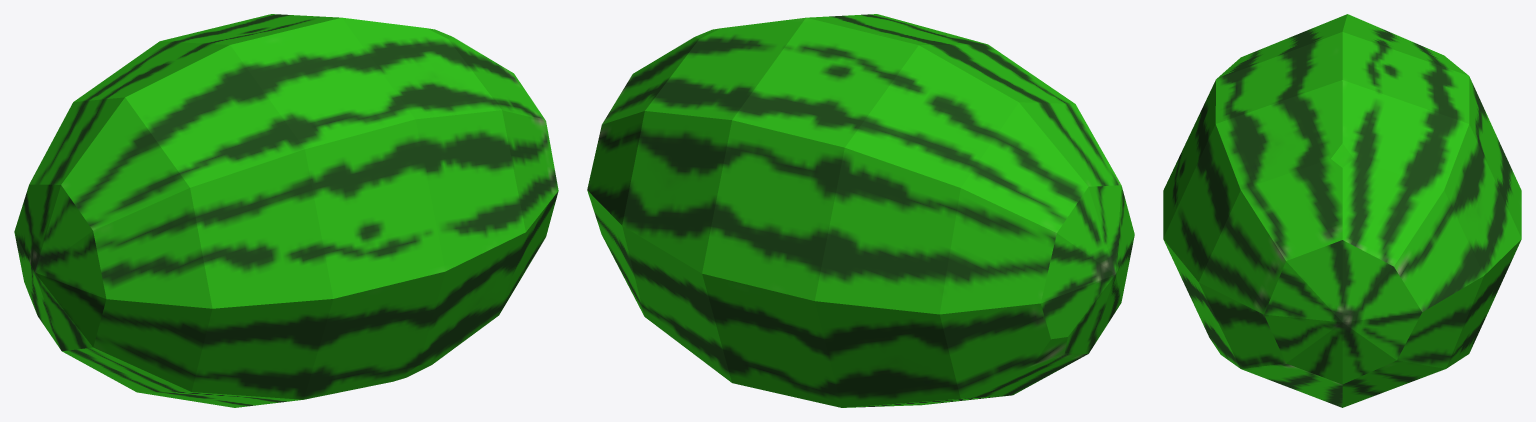
The model's file is watermelon_big.fbx.
3 renders of one model, left to right at view 1: azimuth 30°, elevation 25°; view 2: azimuth 150°, elevation 25°; view 3: azimuth 270°, elevation 25°, orthographic. The views are drawn at different scales.
Visible parts, largest first — view 1: Sphere; view 2: Sphere; view 3: Sphere.
Boxes of the visible parts, box(x1,y1,x2,y2) form: Sphere: box(14, 14, 558, 407); Sphere: box(587, 14, 1134, 407); Sphere: box(1163, 14, 1521, 407).
Size of the model in its own units: 2.76 by 1.95 by 1.92.
